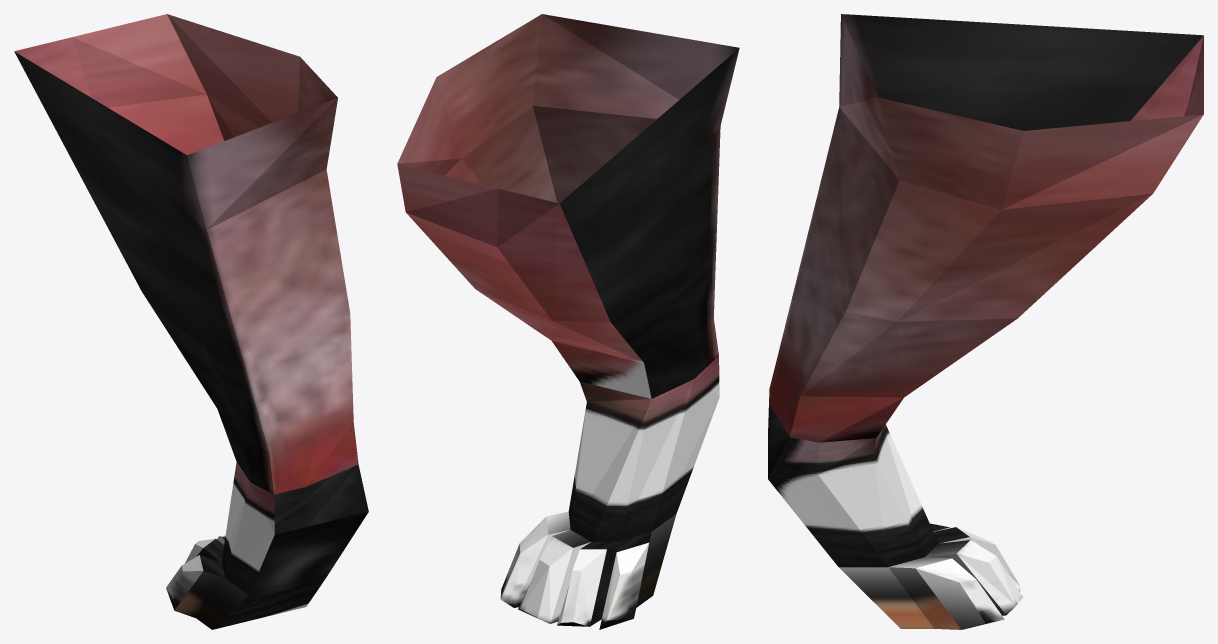
The model's file is Cat_RightRear.obj.
3 views of the same model, side by side, from view 1: azimuth 30°, elevation 25°; view 2: azimuth 150°, elevation 25°; view 3: azimuth 270°, elevation 25° (orthographic). The views are drawn at different scales.
Parts seen in each view (by area): view 1: Cat_RightRear; view 2: Cat_RightRear; view 3: Cat_RightRear.
Boxes of the visible parts, <box> form: Cat_RightRear: <box>14,14,368,629</box>; Cat_RightRear: <box>397,14,739,629</box>; Cat_RightRear: <box>768,14,1203,629</box>.
Size of the model in its own units: 0.1941 by 0.4723 by 0.344.
